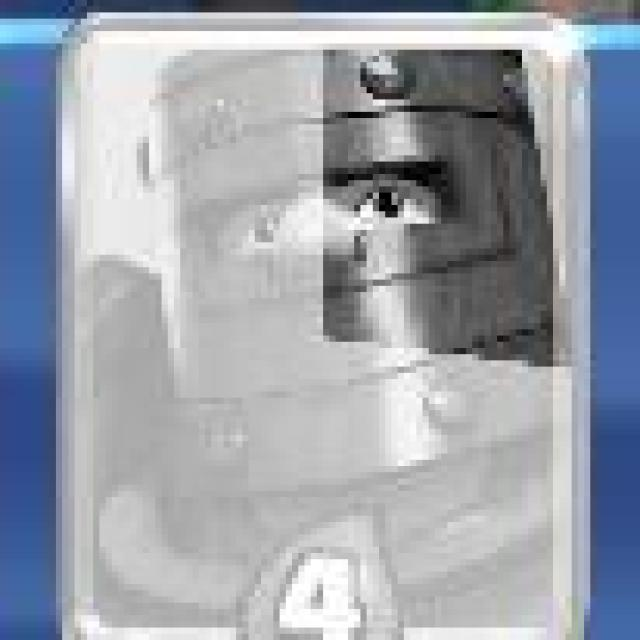Dark_Prince: (42, 3, 592, 640)
